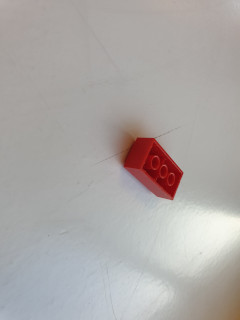2x4 red: (122, 137, 186, 202)
